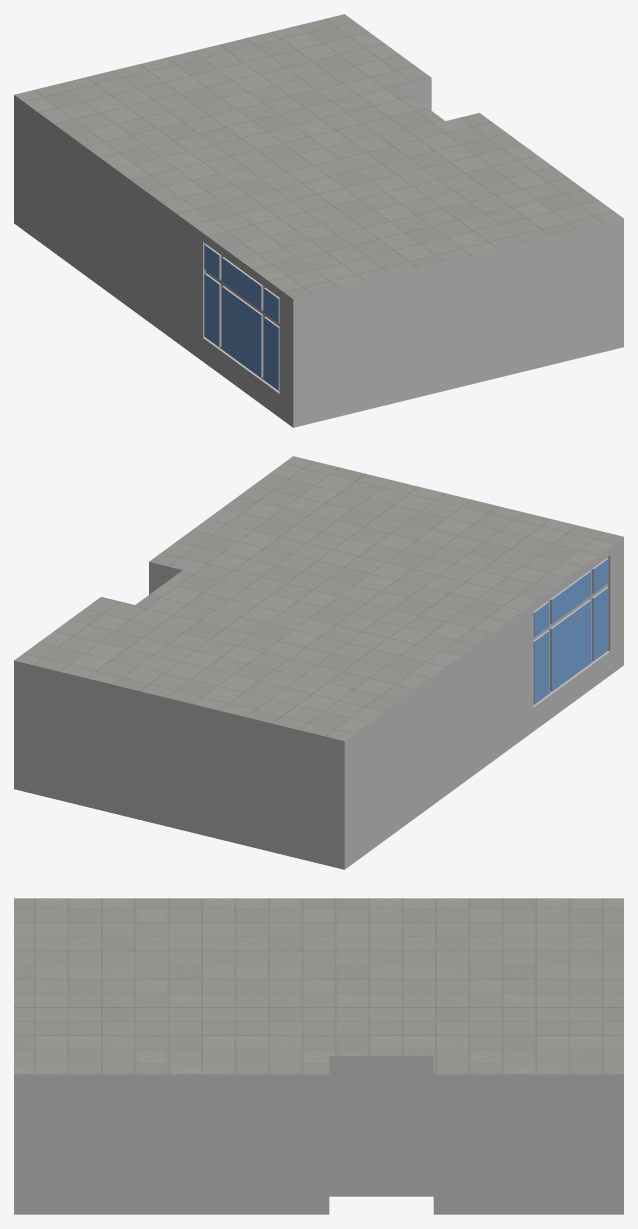
File: Aula_para_Mapear.fbx
3 views of the same model, one above another, from view 1: azimuth 30°, elevation 25°; view 2: azimuth 150°, elevation 25°; view 3: azimuth 270°, elevation 25° (orthographic). The views are drawn at different scales.
Parts seen in each view (by area): view 1: Techo, Paredes, Ventana; view 2: Techo, Paredes, Ventana; view 3: Techo, Paredes.
Part boxes in pixels (x1,y1,x2,y2): Techo: (14, 14, 623, 298); Paredes: (14, 78, 623, 427); Ventana: (203, 242, 279, 393); Techo: (14, 456, 623, 740); Paredes: (14, 537, 623, 869); Ventana: (533, 555, 610, 704); Techo: (14, 898, 623, 1074); Paredes: (14, 1056, 623, 1214).
Bounding box in the file's own units: 1605 × 597 × 2348.
